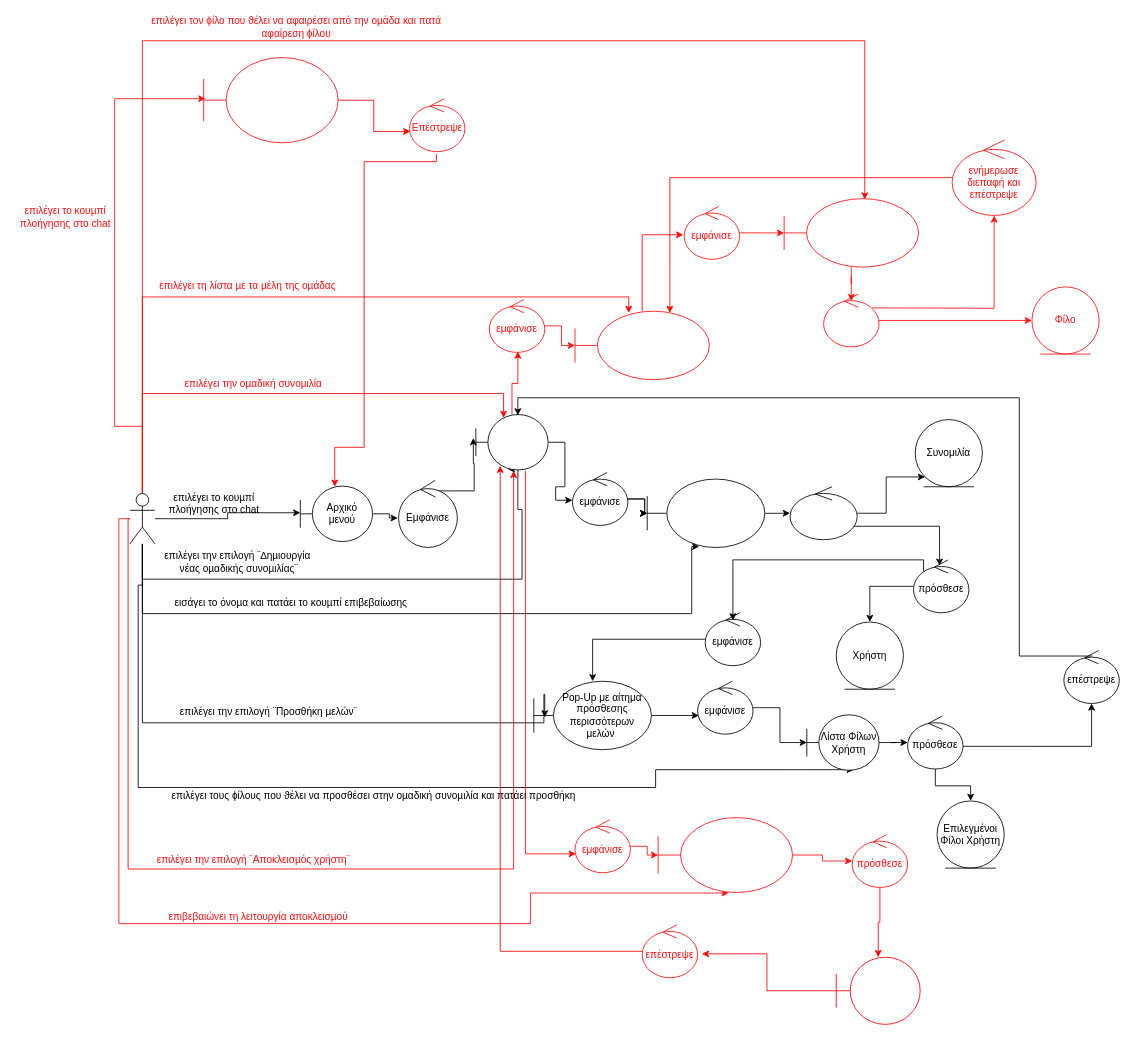
Some shapes in this 1134 by 1039 pixel diagram are drawn without their labels. Here are the shapes that lost their labels. From the top down, the centre of each, then its label:
At point (270, 100): "Pop-Up σφάλματος πρόσβασης στην λειτουργία συνομιλίας λόγω τεχνικών προβλημάτων".
At point (851, 232): "Λίστα Μελών Ομάδας".
At point (851, 320): "αφαίρεσε".
At point (641, 345): "Διεπαφή Οµαδικής Συνοµιλίας".
At point (511, 442): "Λίστα Συνομιλιών".
At point (142, 518): "User".
At point (705, 513): "Pop-Up με αίτημα εισαγωγής ονόματος συνομιλίας".
At point (823, 513): "δημιούργησε".
At point (725, 854): "Pop-Up αιτήματος επιβεβαίωσης αποκλεισμού".
At point (877, 990): "Λίστα με αποκλεισμένους φίλους".
